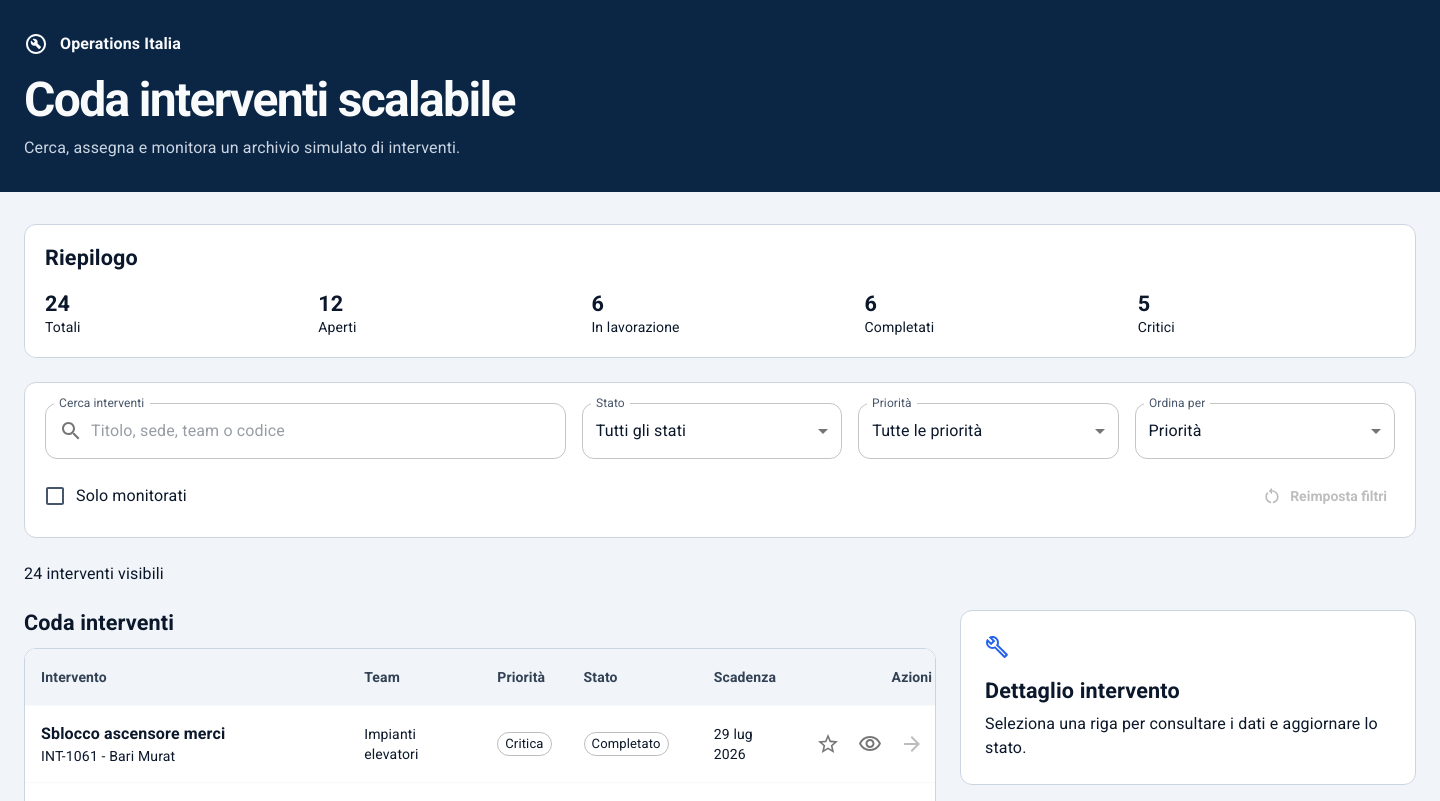
Test case: Coda interventi scalabile › cerca per team ignorando maiuscole e spazi esterni
Type "  IMPIANTI ELETTRICI  " into the field labelled "Cerca interventi".
click(328, 431); type("  IMPIANTI ELETTRICI  ")  # box left=91, top=403, right=566, bottom=459
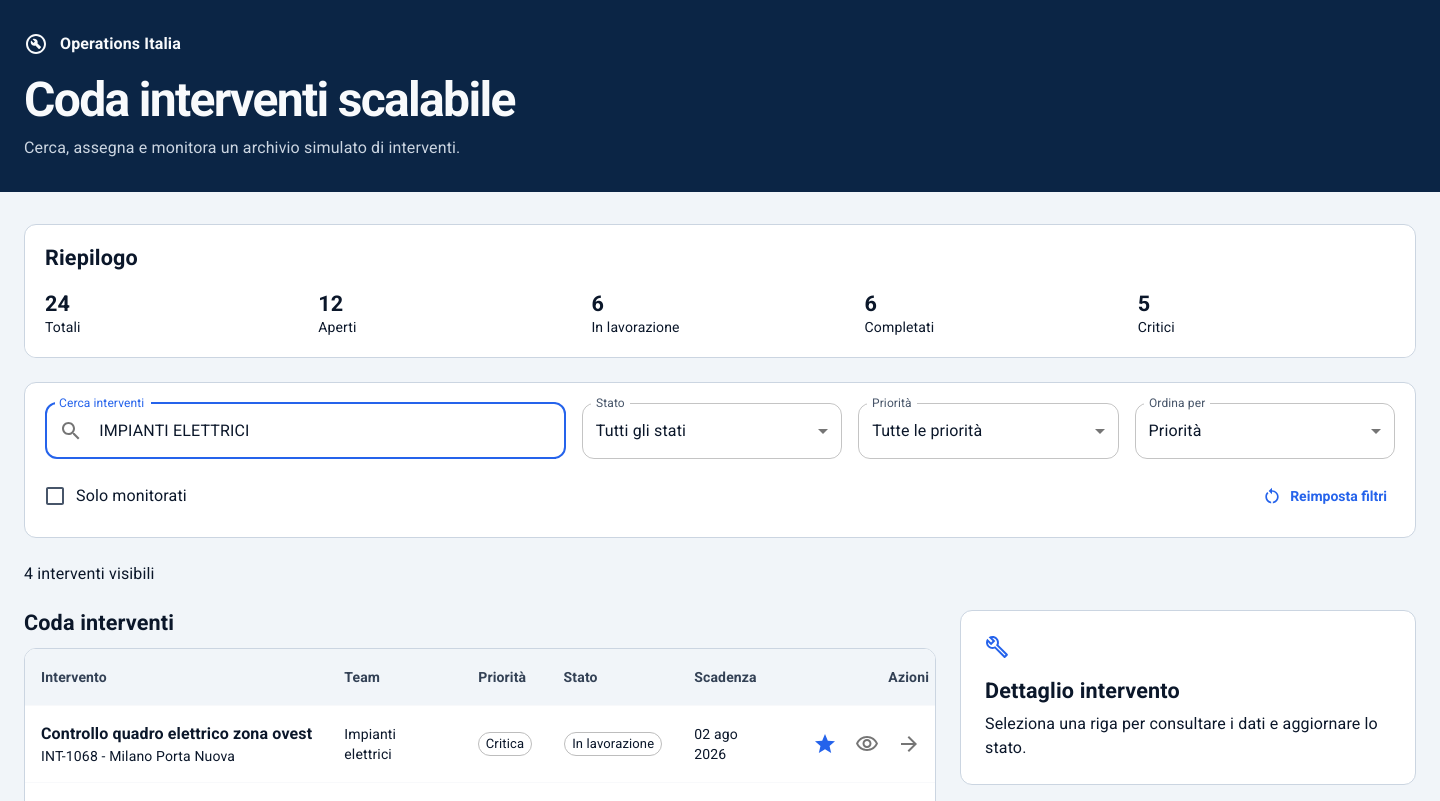
Click the dropdown named "Stato".
click(641, 431)  # box left=596, top=421, right=686, bottom=440
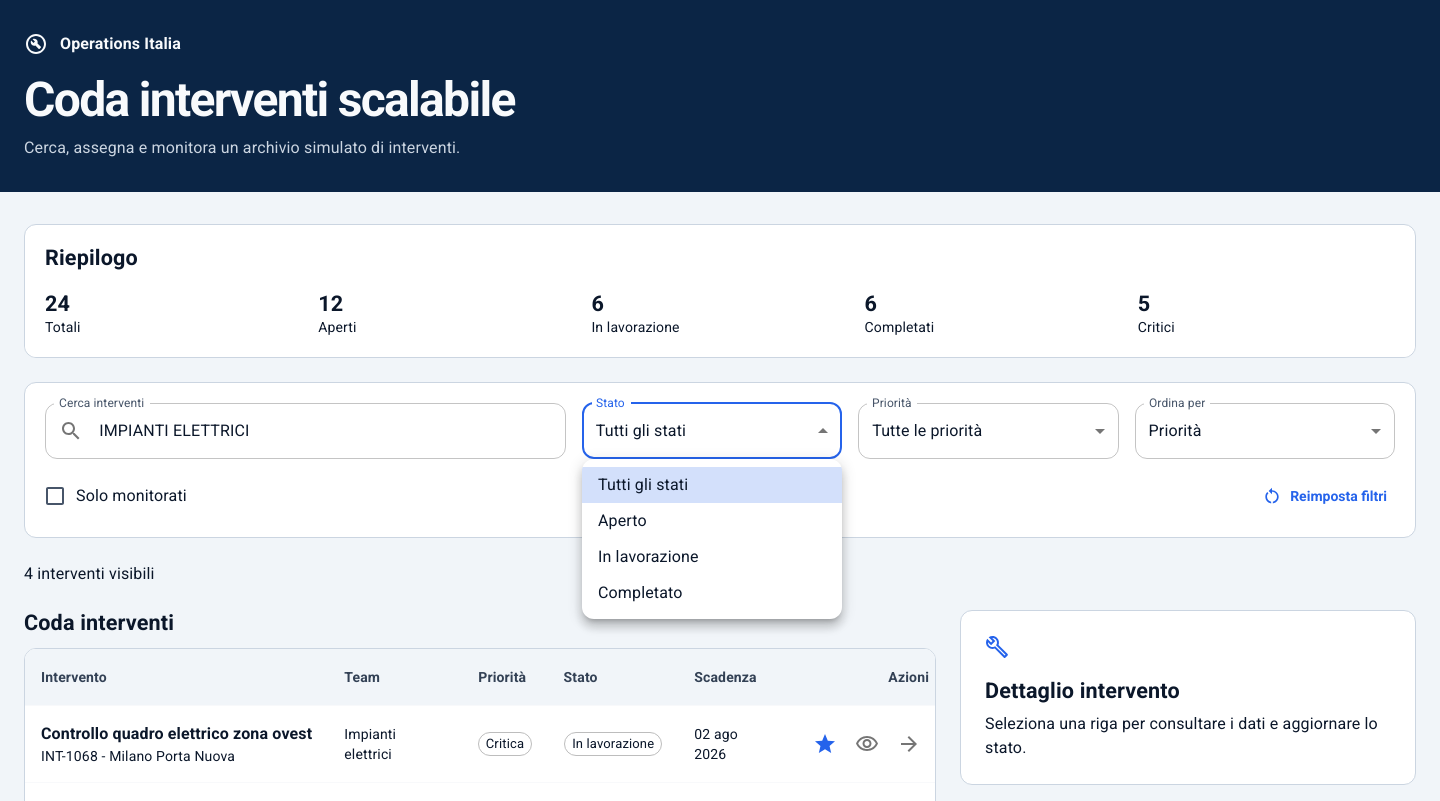
Click the option "Aperto".
click(622, 520)  # box left=598, top=511, right=647, bottom=530
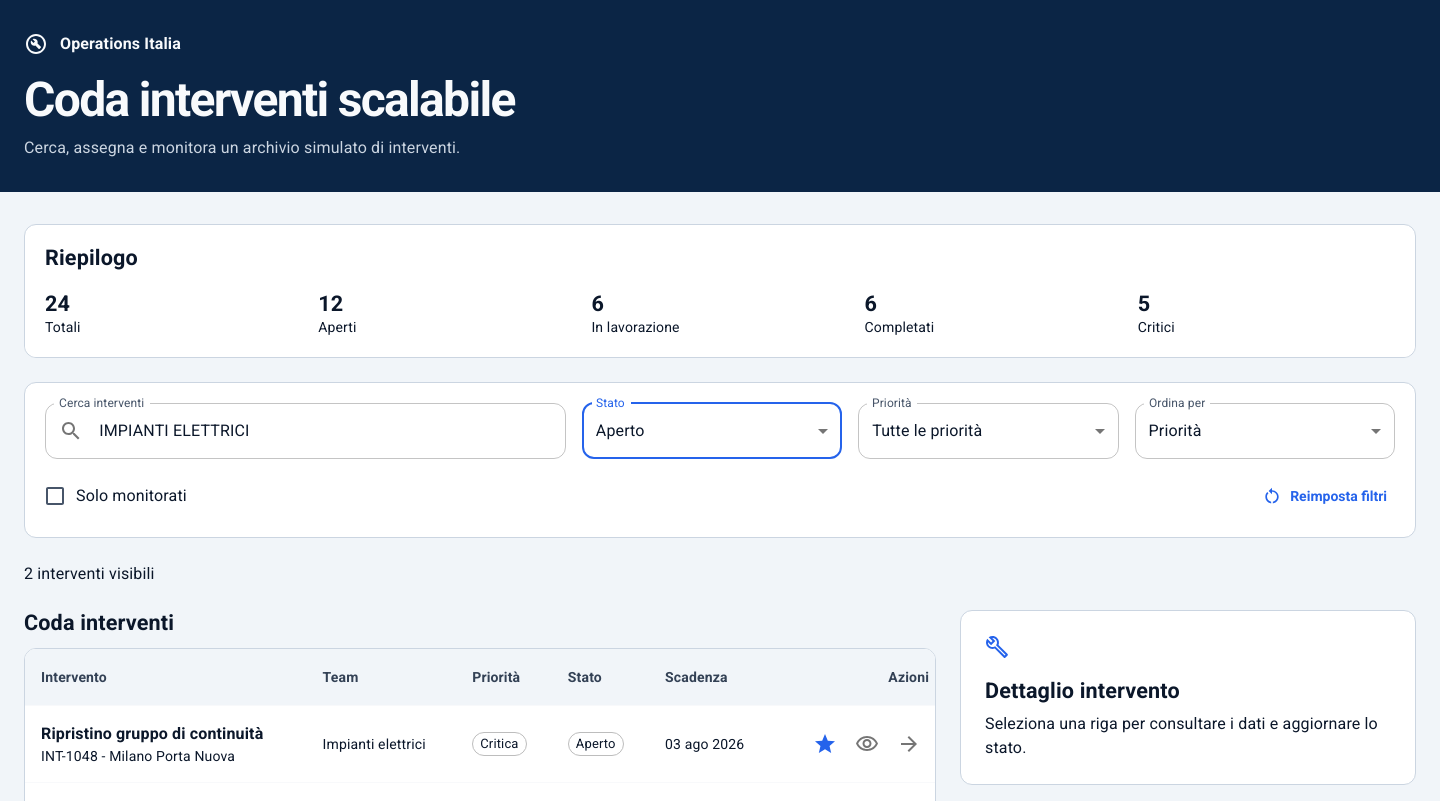
Click the dropdown labelled "priorità".
click(927, 431)  # box left=872, top=421, right=982, bottom=440
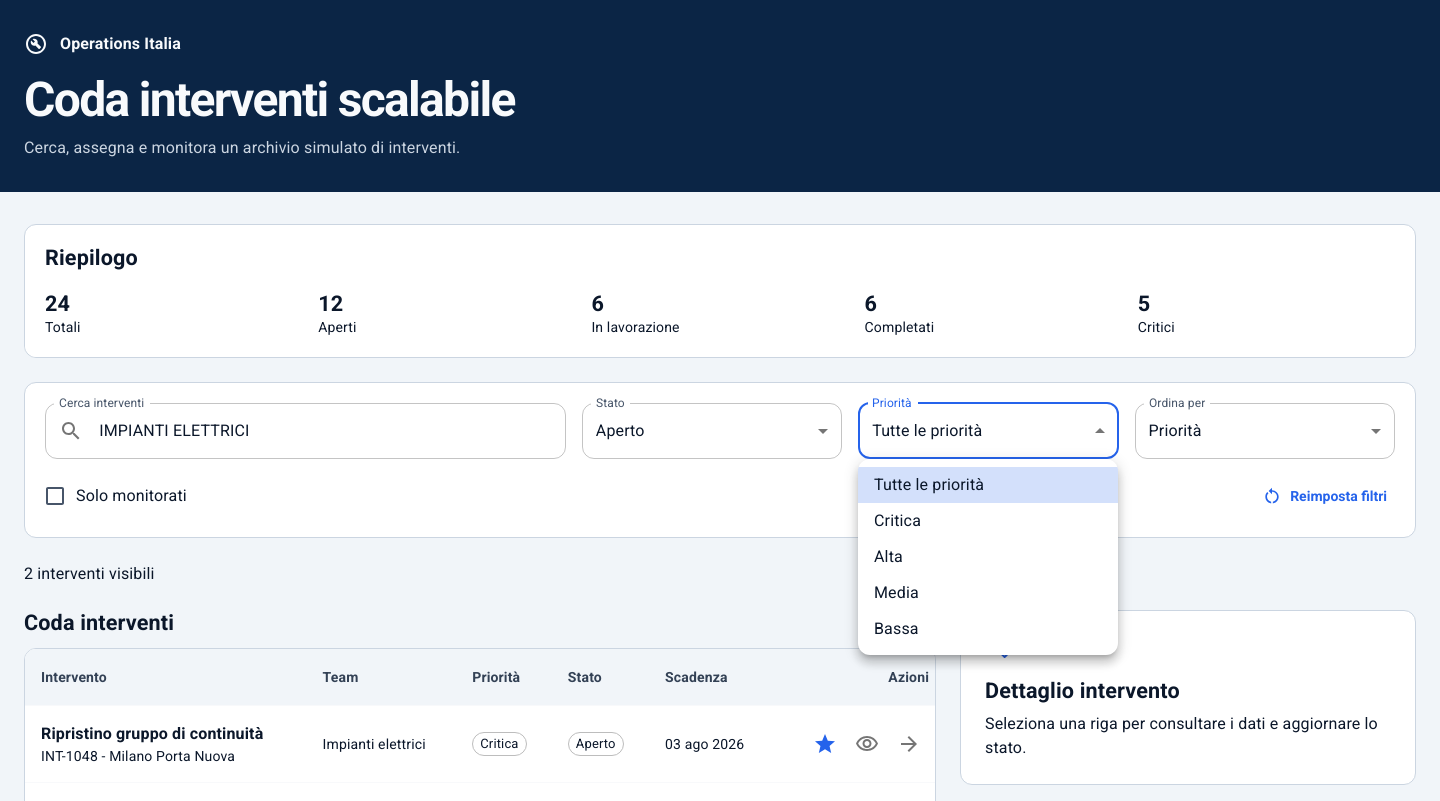
Click the option "Critica".
click(898, 520)  # box left=874, top=511, right=921, bottom=530
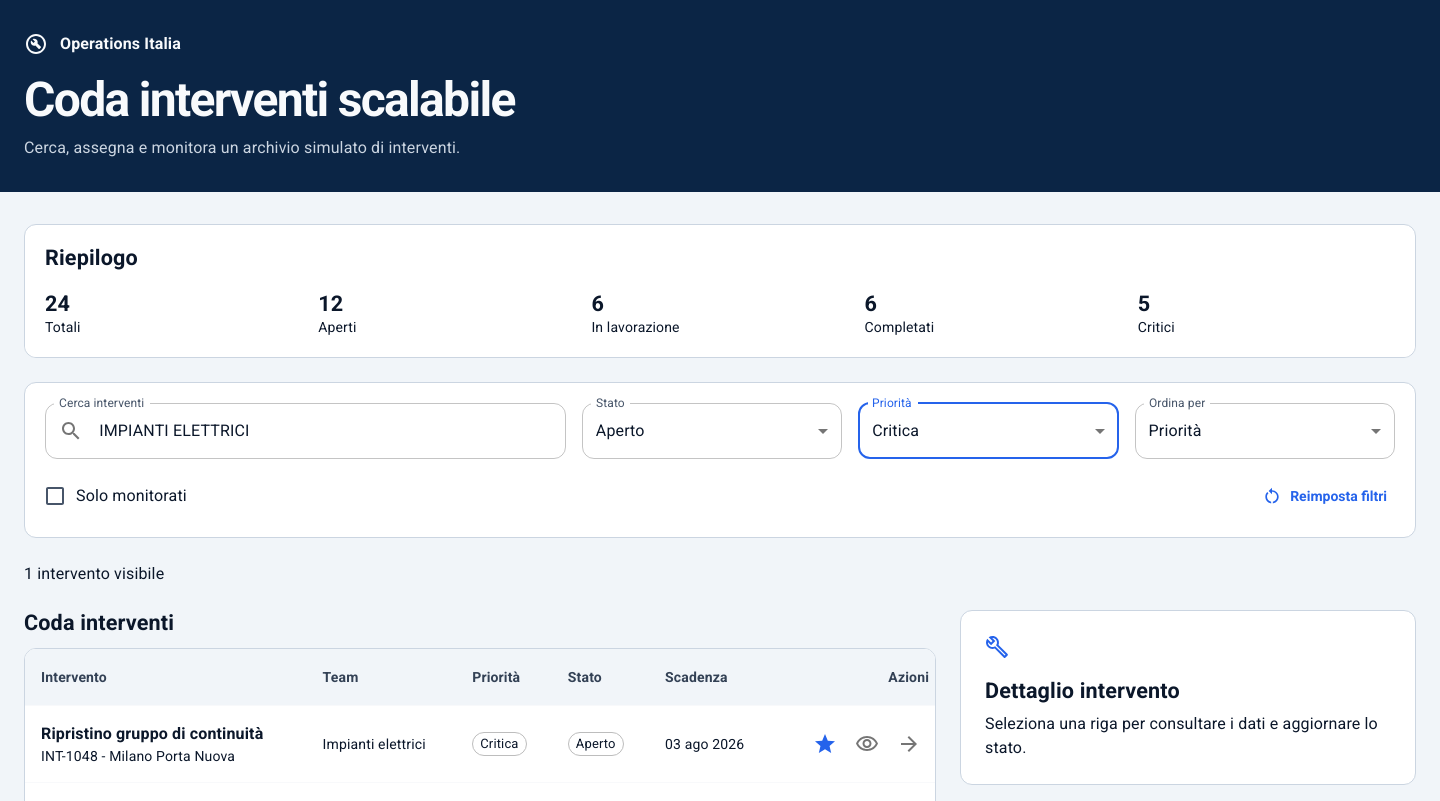
expect the text "Ripristino gruppo di continuità" is shown: met, box left=41, top=722, right=291, bottom=746
expect the text "1 intervento visibile" is shown: met, box left=24, top=564, right=164, bottom=583
